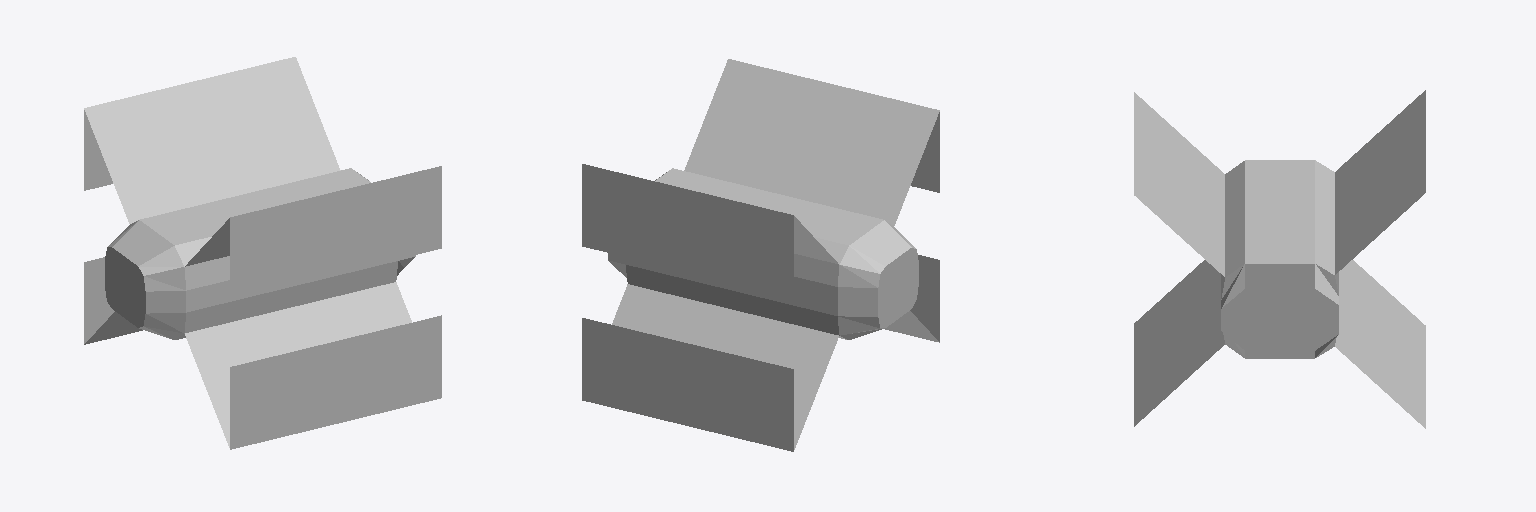
The model's file is ship5.obj.
3 views of the same model, side by side, from view 1: azimuth 30°, elevation 25°; view 2: azimuth 150°, elevation 25°; view 3: azimuth 270°, elevation 25° (orthographic).
Size of the model in its own units: 3.3 by 2.86 by 3.2.